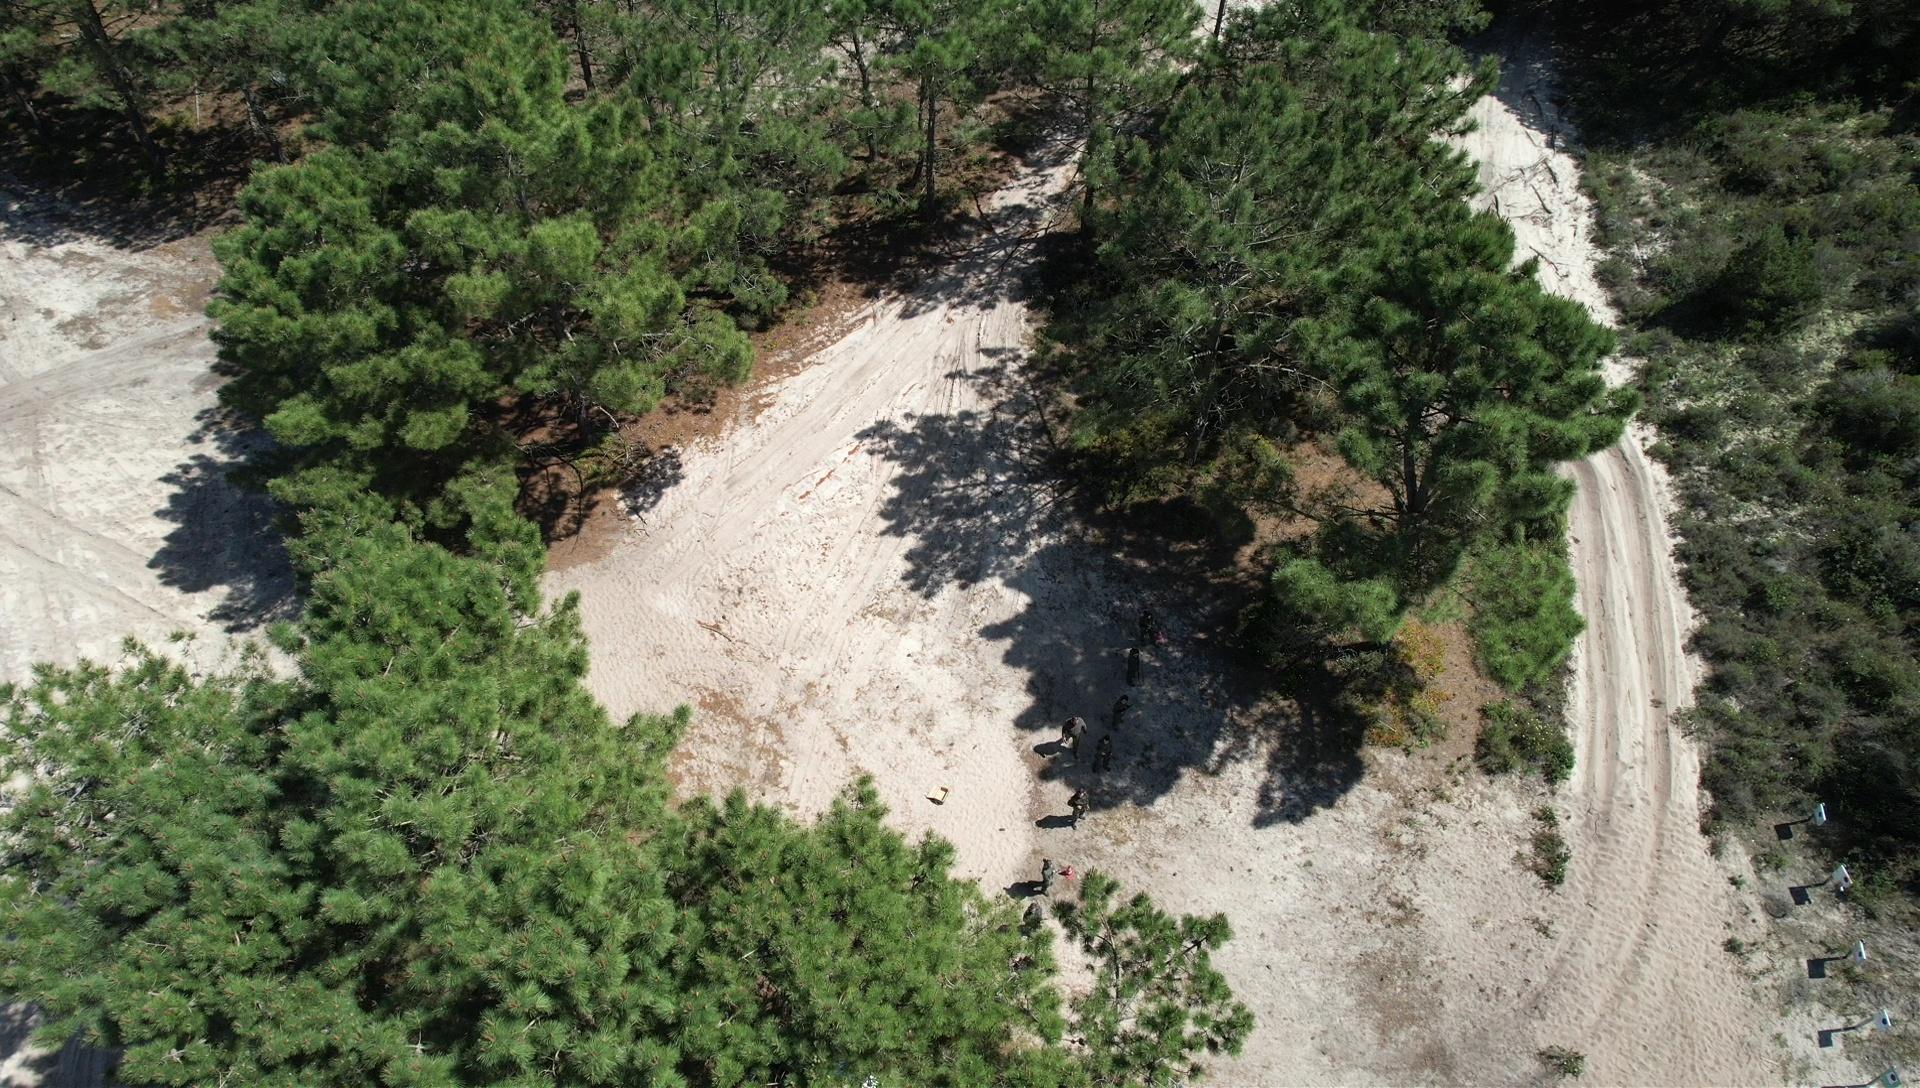Soldier: (1087, 725, 1122, 778), (1058, 717, 1093, 764), (1122, 640, 1150, 688), (1068, 782, 1095, 830), (1036, 859, 1060, 899), (1108, 688, 1135, 723)
